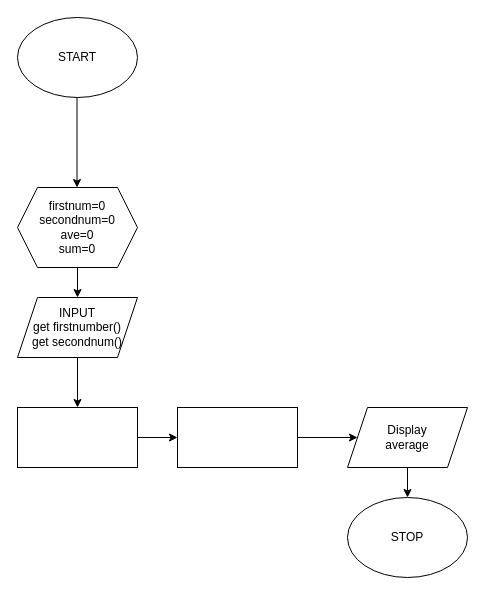
The diagram is 485 pixels wide and 595 high, and some of its shapes have lost their labels. The shapes that lost their labels are listed below. From the top down, each one's centre as x and y in pixels, then its label:
[77,437]: sum=firstnum + secondnum
[237,437]: ave = sum / 2
